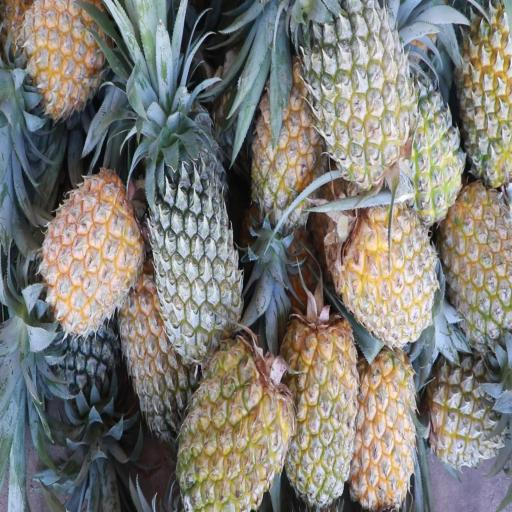------------------------------: (309, 0, 410, 183), (121, 280, 193, 445), (443, 188, 512, 330), (455, 23, 512, 185), (429, 360, 500, 465)
Pineapple - v8 v1: (179, 345, 295, 512), (45, 169, 149, 329), (340, 190, 442, 348), (282, 324, 355, 500), (260, 64, 334, 225), (352, 351, 414, 512), (21, 0, 110, 109), (403, 93, 464, 224)
